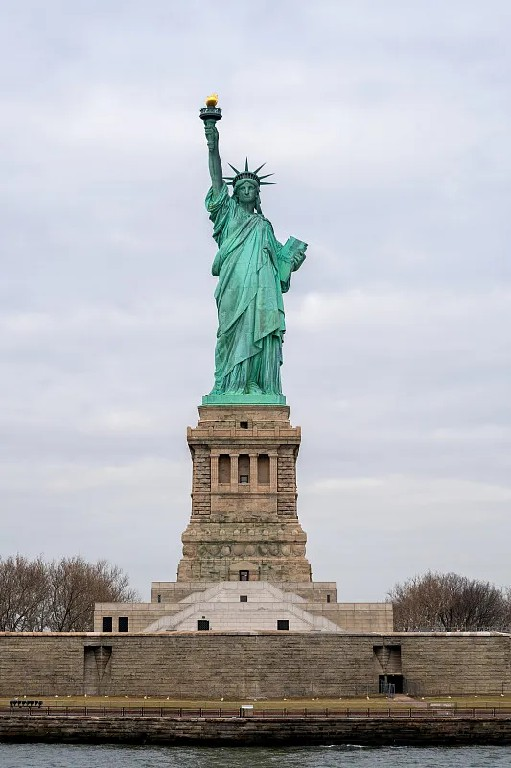SL: (176, 94, 313, 583)
